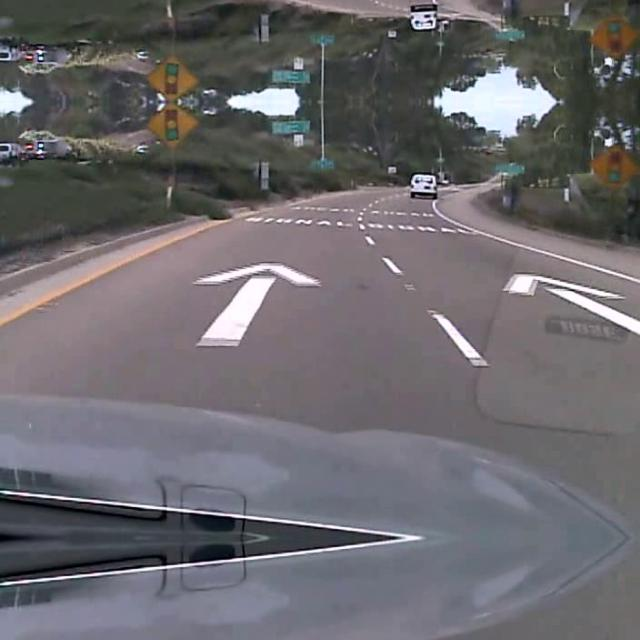signalAhead: (146, 100, 198, 146), (146, 56, 198, 102), (590, 142, 638, 190), (590, 12, 638, 60)
